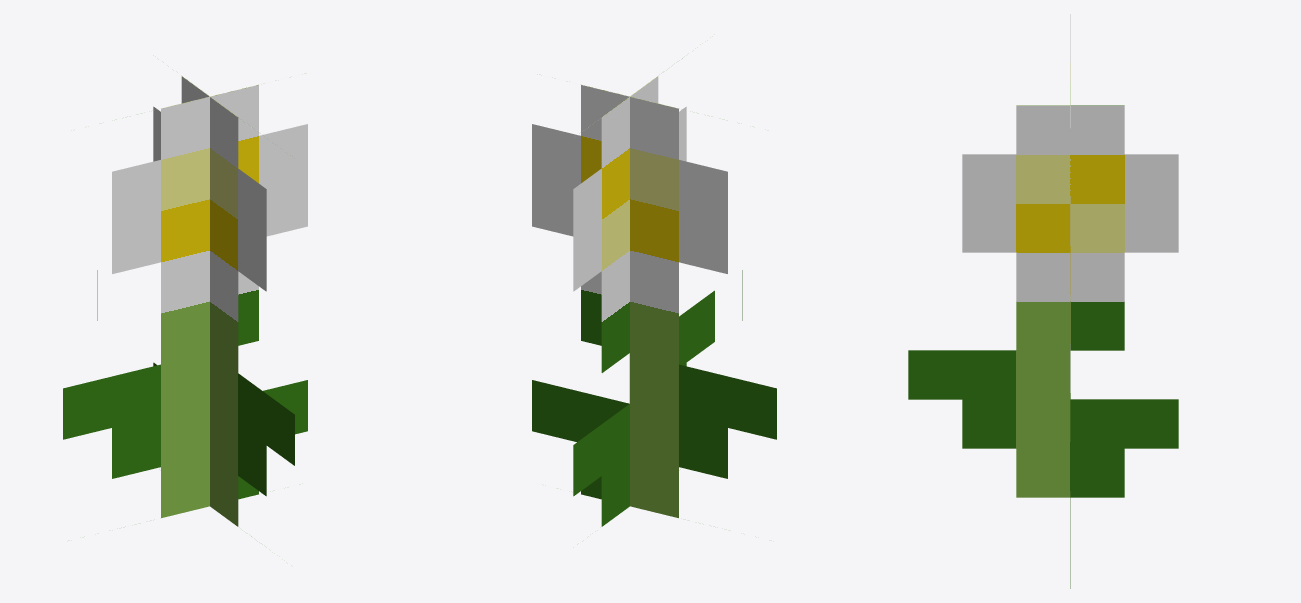
File: Flower_White_Yellow.fbx
The picture shows the model from 3 angles, left to right: view 1: azimuth 30°, elevation 25°; view 2: azimuth 150°, elevation 25°; view 3: azimuth 270°, elevation 25°; orthographic projection. The views are drawn at different scales.
Parts seen in each view (by area): view 1: Cube.2977; view 2: Cube.2977; view 3: Cube.2977.
Part boxes in pixels (bbox=[...]): Cube.2977: bbox=[63, 55, 307, 547]; Cube.2977: bbox=[532, 55, 776, 547]; Cube.2977: bbox=[908, 14, 1178, 588].
Bounding box in the file's own units: 200 × 200 × 200.
1 material, 1 textured.
